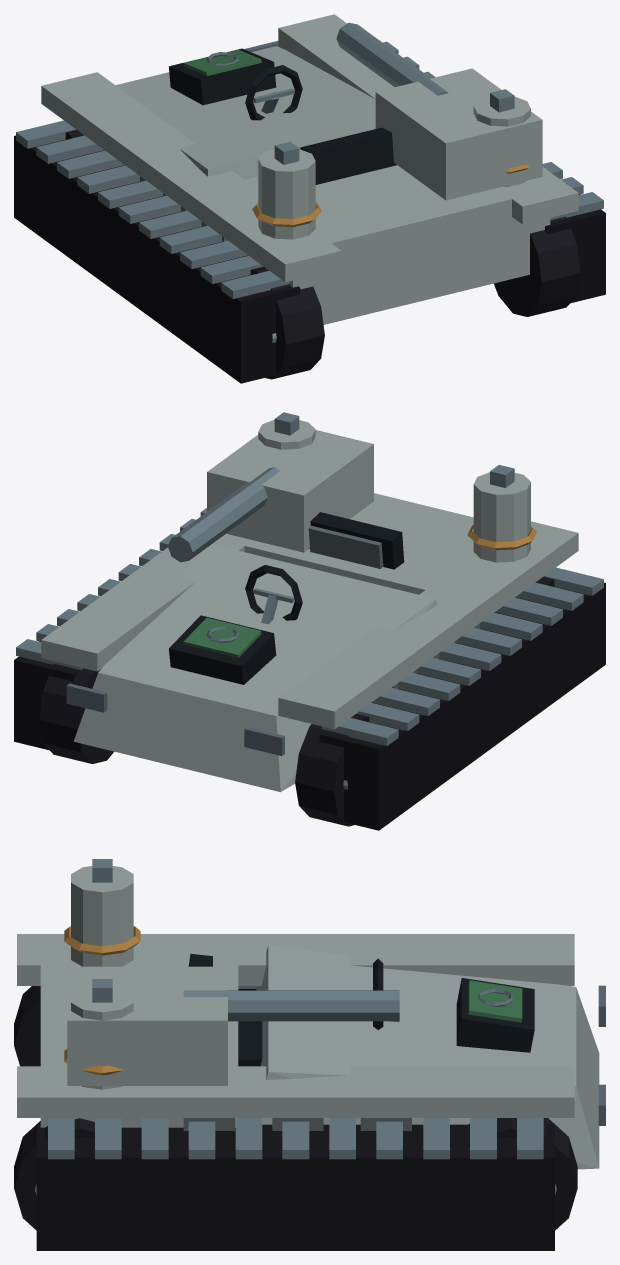
Rendered from kart.glb.
3 renders of one model, top to bottom at view 1: azimuth 30°, elevation 25°; view 2: azimuth 150°, elevation 25°; view 3: azimuth 270°, elevation 25°, orthographic. The views are drawn at different scales.
Visible parts, largest first — view 1: identity-tank-tank-armored-hull, identity-tank-tank-full-length-tracks, identity-tank-motif-tanks, wheel-rear-right, identity-tank-driver-cockpit, identity-tank-motif-scanner, wheel-rear-left; view 2: identity-tank-tank-armored-hull, identity-tank-tank-full-length-tracks, identity-tank-motif-tanks, identity-tank-driver-cockpit, identity-tank-motif-scanner, wheel-front-left, wheel-front-right; view 3: identity-tank-tank-armored-hull, identity-tank-tank-full-length-tracks, identity-tank-motif-tanks, identity-tank-motif-scanner, wheel-front-right, wheel-rear-right, wheel-rear-left, identity-tank-driver-cockpit.
Boxes of the visible parts, x1,y1,x2,y2 form: identity-tank-tank-armored-hull: (41, 14, 578, 324); identity-tank-tank-full-length-tracks: (14, 41, 605, 383); identity-tank-motif-tanks: (252, 89, 530, 239); wheel-rear-right: (494, 216, 580, 316); identity-tank-driver-cockpit: (245, 65, 396, 184); identity-tank-motif-scanner: (168, 48, 276, 105); wheel-rear-left: (250, 266, 324, 379); identity-tank-tank-armored-hull: (41, 430, 578, 792); identity-tank-tank-full-length-tracks: (14, 508, 605, 830); identity-tank-motif-tanks: (258, 412, 536, 562); identity-tank-driver-cockpit: (245, 512, 404, 624); identity-tank-motif-scanner: (169, 615, 276, 684); wheel-front-left: (295, 713, 369, 826); wheel-front-right: (39, 663, 113, 763); identity-tank-tank-armored-hull: (17, 934, 605, 1169); identity-tank-tank-full-length-tracks: (36, 986, 554, 1250); identity-tank-motif-tanks: (64, 859, 140, 1089); identity-tank-motif-scanner: (456, 978, 534, 1052); wheel-front-right: (468, 1118, 577, 1230); wheel-rear-right: (14, 1118, 94, 1230); wheel-rear-left: (14, 986, 40, 1066); identity-tank-driver-cockpit: (188, 953, 399, 1066).
Size of the model in its own units: 2.38 by 1.3 by 2.88.
